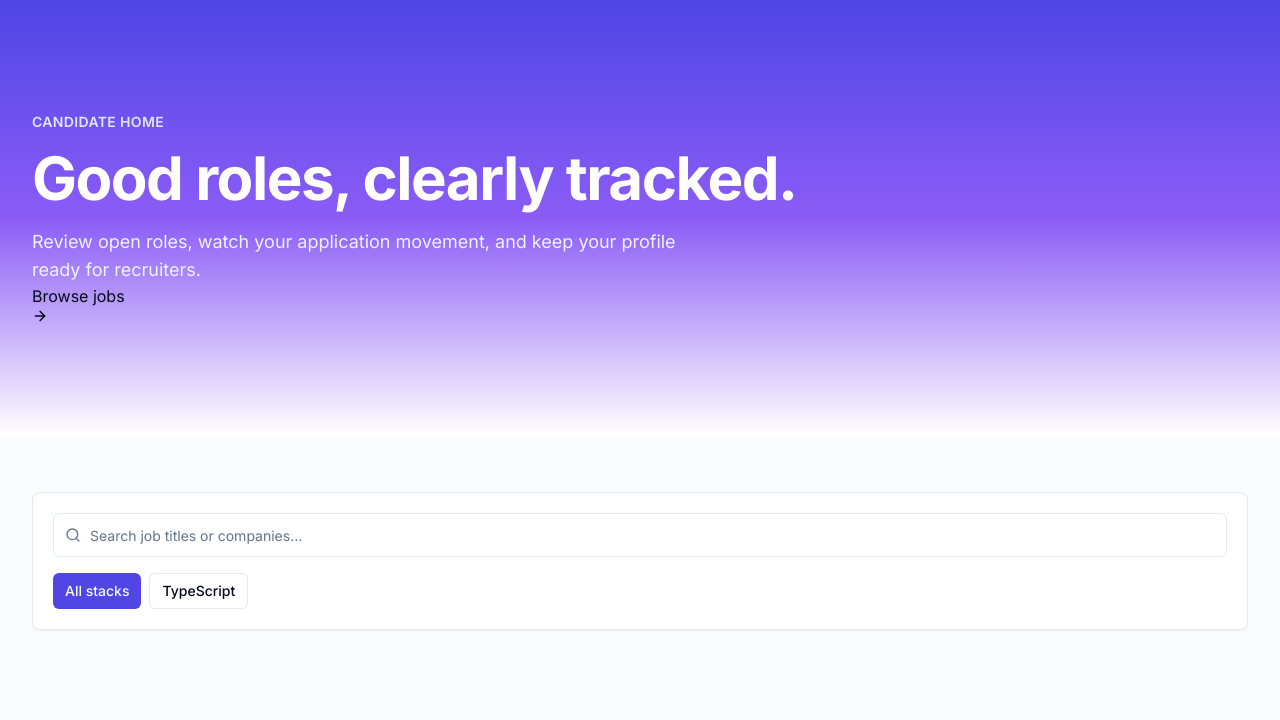
Test: CandidateHomePage › filters the open jobs section by the homepage search box
Step 1. Type "Platform" into the search field named "search open jobs" → (640, 535), box [53, 513, 1227, 557]
(page scrolled)
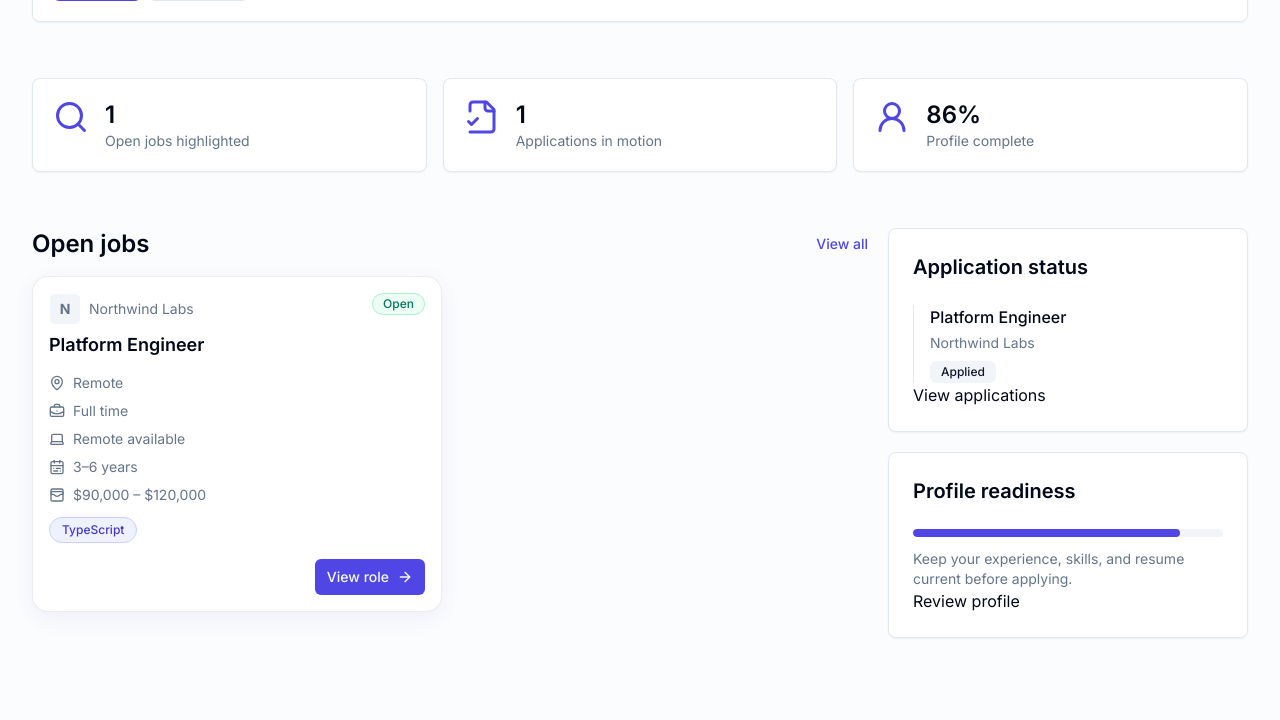
Expected: the link "Platform Engineer" is shown, [49, 334, 204, 355]
